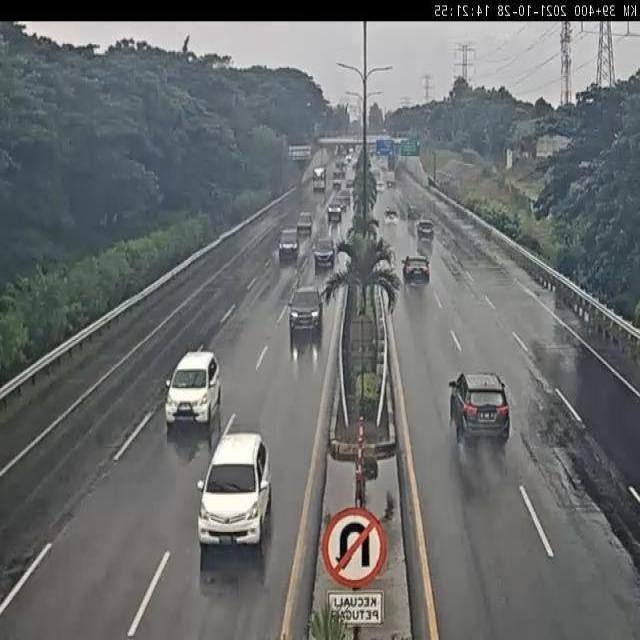Bus: (312, 167, 328, 193)
Car: (196, 430, 272, 552), (449, 372, 510, 449), (163, 351, 220, 430), (287, 285, 326, 336), (401, 252, 431, 286), (312, 236, 337, 269), (278, 227, 300, 263), (296, 211, 314, 236), (417, 220, 434, 240), (384, 206, 401, 226), (327, 202, 342, 222), (332, 176, 342, 190), (376, 180, 386, 193), (346, 176, 354, 188)
Truck: (385, 170, 395, 187)
